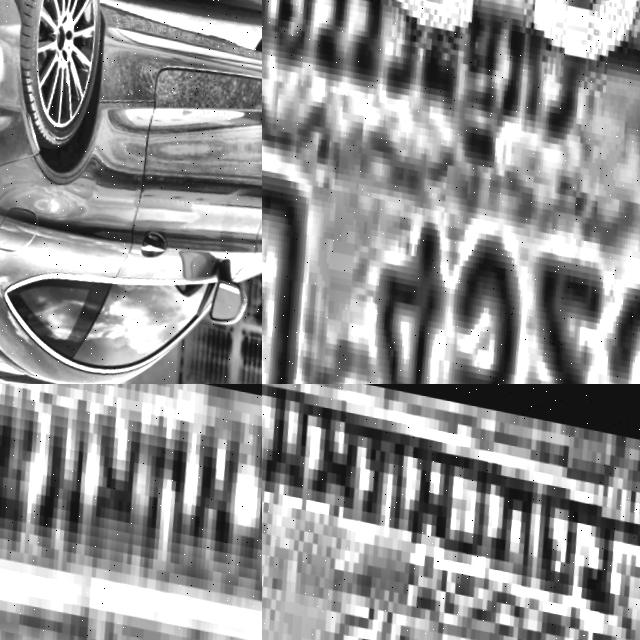license-plate: (262, 0, 640, 384), (262, 384, 640, 640), (0, 384, 262, 640)
